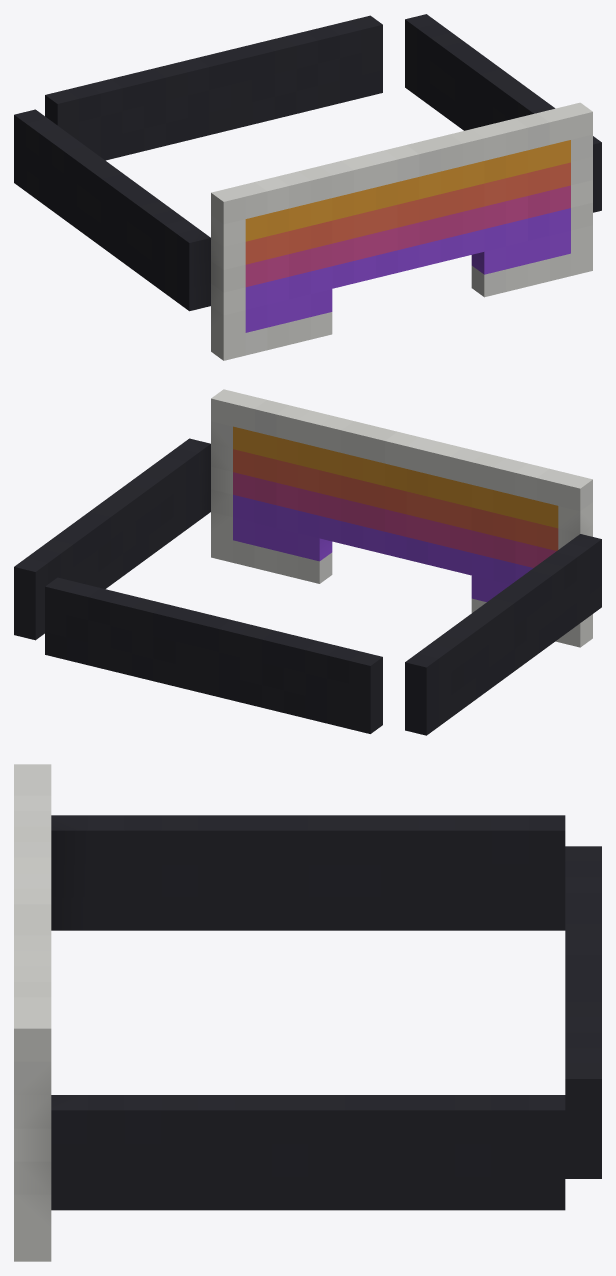
The model's file is face_skigoggles.glb.
The picture shows the model from 3 angles, top to bottom: view 1: azimuth 30°, elevation 25°; view 2: azimuth 150°, elevation 25°; view 3: azimuth 270°, elevation 25°; orthographic projection. The views are drawn at different scales.
Parts seen in each view (by area): view 1: Face; view 2: Face; view 3: Face.
Part boxes in pixels (bbox=[...]): Face: bbox=[14, 14, 601, 360]; Face: bbox=[14, 389, 601, 735]; Face: bbox=[14, 764, 601, 1261].
Size of the model in its own units: 2.09 by 0.7695 by 1.76.
